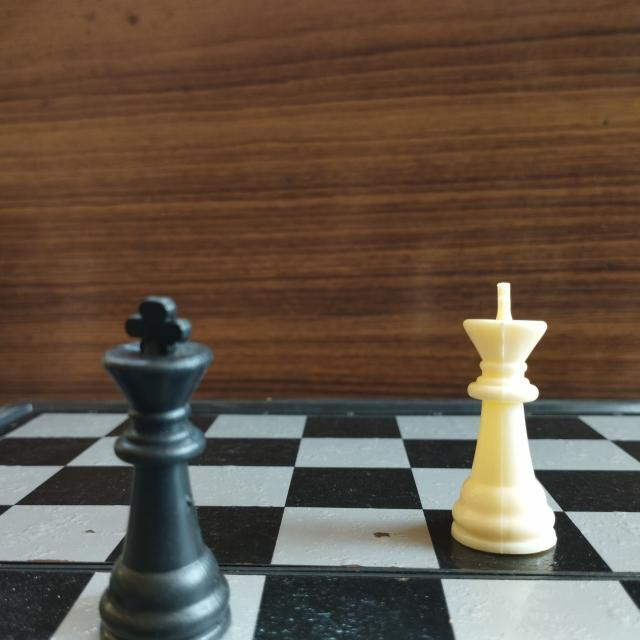Black King: (95, 289, 237, 640)
White King: (446, 270, 569, 562)
